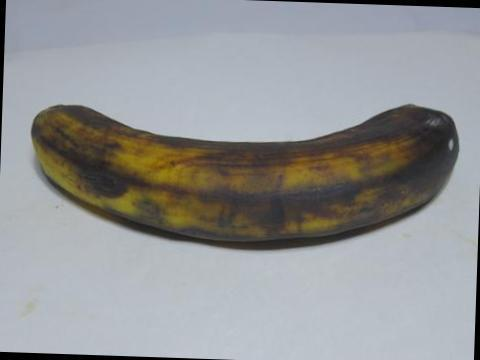overripe: (16, 84, 470, 254)
rotten: (373, 102, 477, 213)
